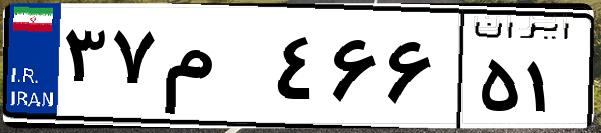1: (525, 38, 570, 115)
3: (57, 26, 110, 100)
4: (270, 28, 330, 110)
5: (475, 38, 525, 113)
6: (385, 28, 445, 110), (330, 28, 385, 110)
7: (110, 28, 158, 98)
م: (158, 20, 270, 120)
